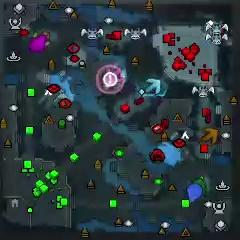Other: (104, 72, 118, 88)
p1: (187, 184, 202, 203)
p3: (30, 34, 46, 54)
x1: (105, 67, 123, 85)
x3: (145, 77, 160, 95)
x4: (190, 178, 207, 195)
x5: (202, 127, 218, 144)
